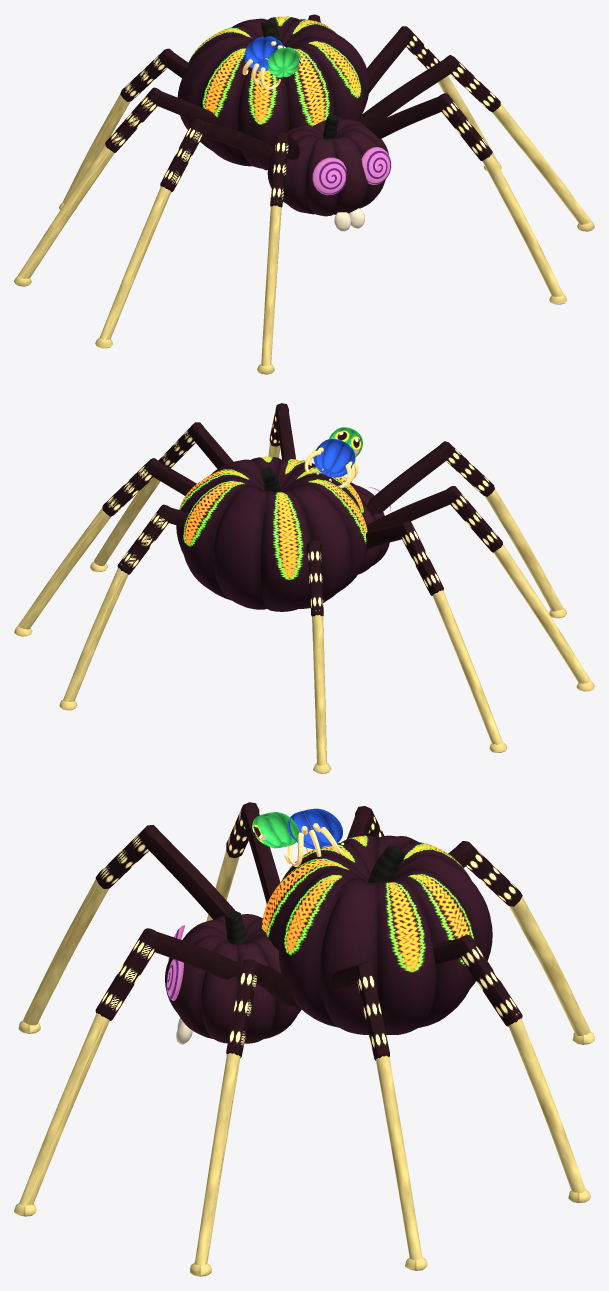
Rendered from pumpkin-spider.glb.
3 renders of one model, top to bottom at view 1: azimuth 30°, elevation 25°; view 2: azimuth 150°, elevation 25°; view 3: azimuth 270°, elevation 25°, orthographic. The views are drawn at different scales.
Visible parts, largest first — view 1: spider, leg_1, leg_5, leg_0, leg_6, leg_4, leg_7, leg_2, baby; view 2: spider, leg_5, leg_4, leg_6, leg_2, leg_3, leg_7, leg_1, baby, leg_0; view 3: spider, leg_0, leg_4, leg_1, leg_3, leg_2, leg_7, baby, leg_5, leg_6.
Boxes of the visible parts, box(x1,y1,x2,y2) form: spider: box(177, 16, 391, 231); leg_1: box(356, 55, 594, 231); leg_5: box(95, 118, 274, 348); leg_0: box(367, 93, 567, 304); leg_6: box(14, 87, 219, 286); leg_4: box(257, 132, 299, 374); leg_7: box(59, 48, 189, 210); leg_2: box(367, 26, 501, 171); baby: box(242, 36, 300, 89); spider: box(176, 456, 390, 611); leg_5: box(366, 486, 594, 691); leg_4: box(365, 441, 566, 618); leg_6: box(366, 521, 506, 752); leg_2: box(14, 458, 196, 636); leg_3: box(59, 504, 188, 710); leg_7: box(306, 540, 331, 773); leg_1: box(90, 422, 233, 571); baby: box(304, 427, 362, 488); leg_0: box(268, 403, 295, 459); spider: box(165, 835, 492, 1044); leg_0: box(14, 928, 241, 1216); leg_4: box(18, 825, 234, 1033); leg_1: box(190, 959, 300, 1276); leg_3: box(433, 935, 590, 1202); leg_2: box(331, 962, 427, 1270); leg_7: box(448, 841, 594, 1044); baby: box(252, 808, 343, 866); leg_5: box(206, 802, 280, 921); leg_6: box(347, 806, 384, 838).
Size of the model in its own units: 7 by 3.03 by 5.51.
2 materials, 2 textured.
